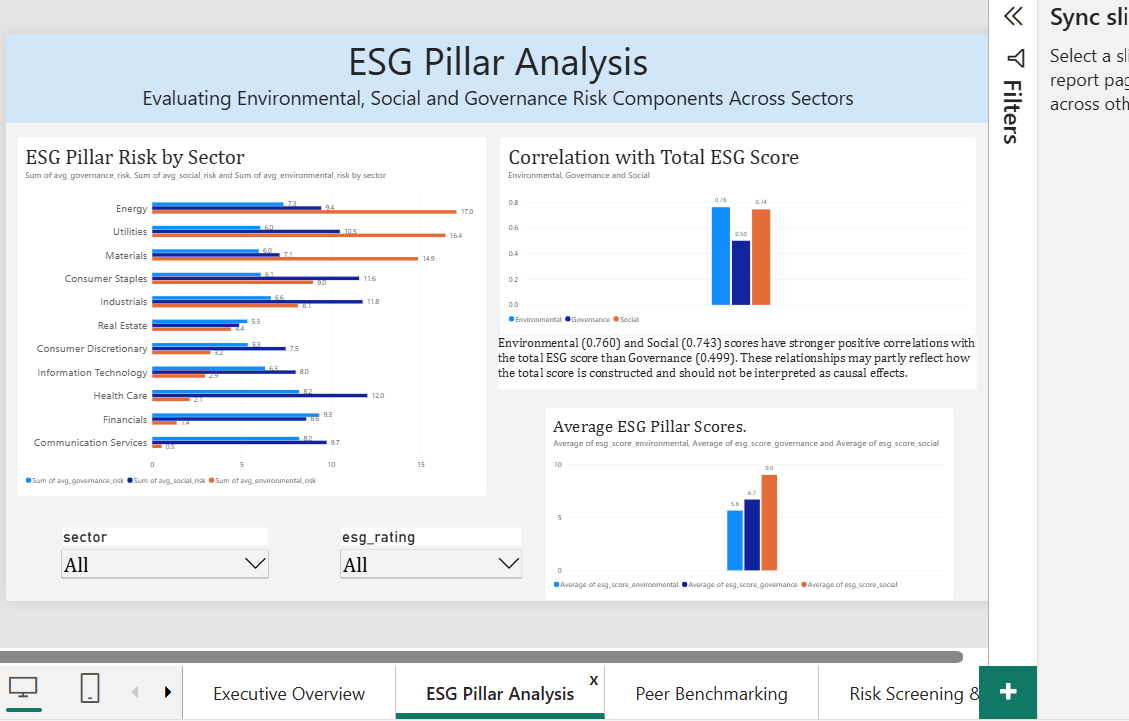

What the dashboard file says about the page in this screenshot:
{"tool":"powerbi","page":{"name":"ESG Pillar Analysis","canvas":[1920,1080],"ordinal":1},"visuals":[{"type":"clusteredBarChart","title":"ESG Pillar Risk by Sector","fields":{"Category":["sector_esg_risk.sector"],"Y":["Sum(sector_esg_risk.avg_governance_risk)","Sum(sector_esg_risk.avg_social_risk)","Sum(sector_esg_risk.avg_environmental_risk)"]},"box":[20,194.3,897.5,687.5],"z":0},{"type":"clusteredColumnChart","title":"Correlation with Total ESG Score","fields":{"Y":["Sum(esg_score_correlations.total_environmental_correlation)","Sum(esg_score_correlations.total_governance_correlation)","Sum(esg_score_correlations.total_social_correlation)"]},"box":[940,194.3,908.6,380],"z":1000},{"type":"textbox","box":[937.1,574.3,911.4,102.9],"z":2000},{"type":"clusteredColumnChart","title":"Average ESG Pillar Scores.","fields":{"Y":["Avg(esg_company_data.esg_score_environmental)","Avg(esg_company_data.esg_score_governance)","Avg(esg_company_data.esg_score_social)"]},"box":[1025.7,711.4,780,368.6],"z":3000},{"type":"slicer","fields":{"Values":["esg_company_data.sector"]},"box":[100,940,405.7,97.1],"z":4000},{"type":"slicer","fields":{"Values":["esg_company_data.esg_rating"]},"box":[631.4,940,357.1,97.1],"z":5000},{"type":"textbox","box":[0,0,1874.3,168.6],"z":6000}]}

Visuals, with their boxes on the page's 1920x1080 design canvas (x1, y1, x2, y2). These are canvas units, not pixel positions in the 1129x721 screenshot, which may show the page scaled, cropped or inside an application window:
"ESG Pillar Risk by Sector" clusteredBarChart: bbox=(20, 194, 918, 882)
"Correlation with Total ESG Score" clusteredColumnChart: bbox=(940, 194, 1849, 574)
textbox: bbox=(937, 574, 1848, 677)
"Average ESG Pillar Scores." clusteredColumnChart: bbox=(1026, 711, 1806, 1080)
slicer - esg_company_data.sector: bbox=(100, 940, 506, 1037)
slicer - esg_company_data.esg_rating: bbox=(631, 940, 988, 1037)
textbox: bbox=(0, 0, 1874, 169)
